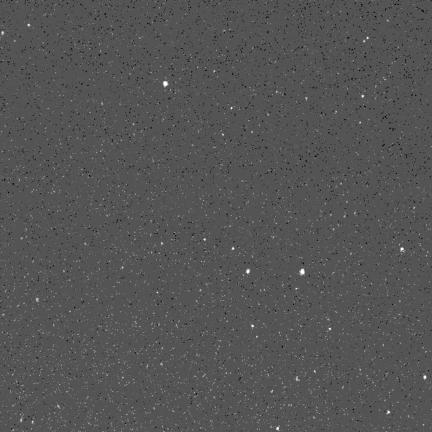blob: (300, 269, 305, 275), (163, 81, 168, 86), (246, 269, 250, 274), (387, 411, 391, 415), (276, 427, 280, 431), (232, 247, 235, 251), (401, 248, 404, 252), (362, 95, 365, 99), (204, 238, 207, 242), (424, 375, 426, 380), (28, 24, 31, 27), (329, 328, 332, 331)
